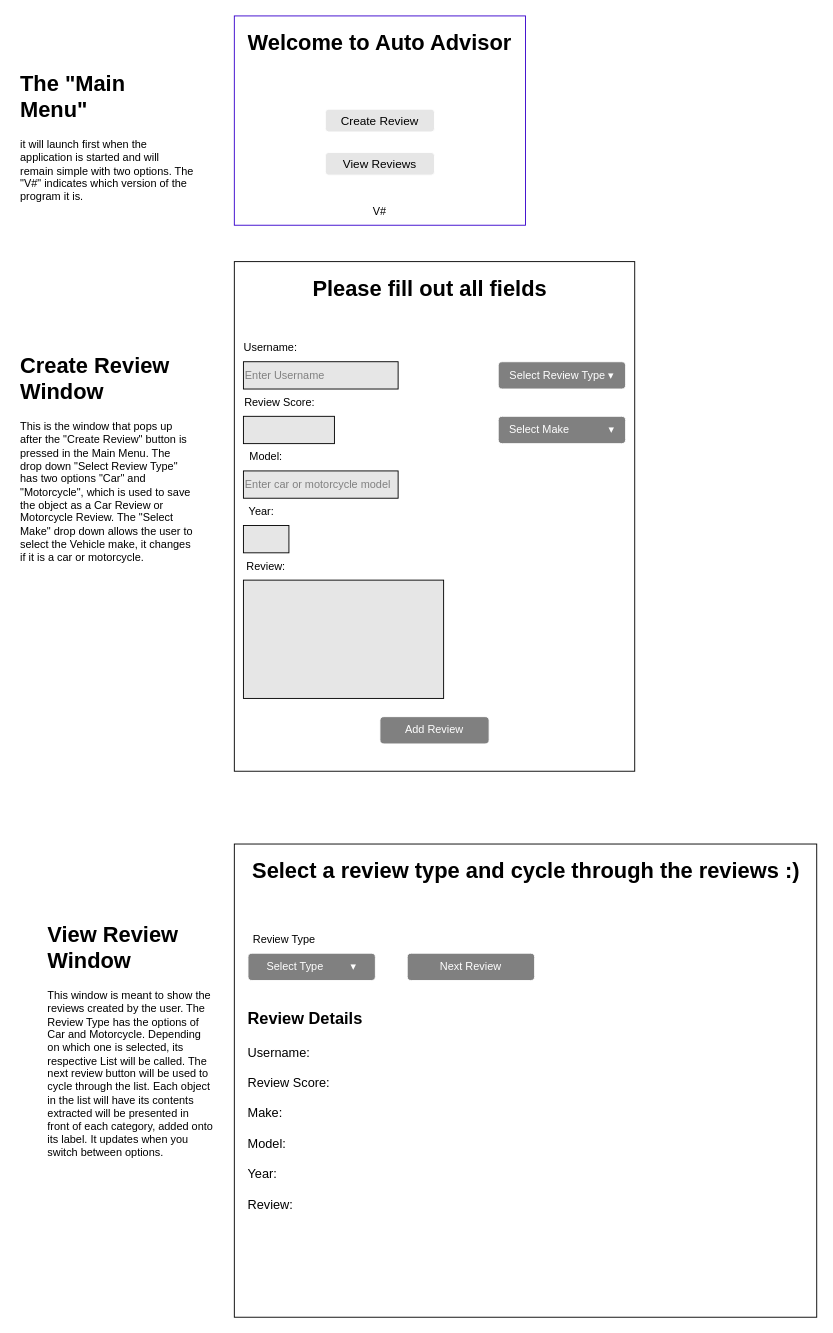
Image size: 833x1333. Some labels were removed from this diagram. The box of each missing label's shape, as (x1, y1, x2, y2) in pixels:
Enter Rating: (243, 415, 334, 444)
Type your review: (243, 579, 444, 698)
Year: (243, 525, 289, 553)
